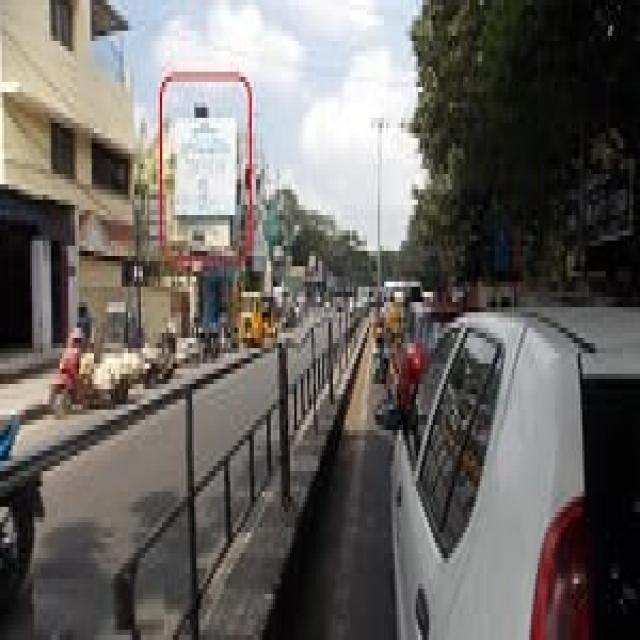Werbetafel frei: (173, 110, 238, 226)
